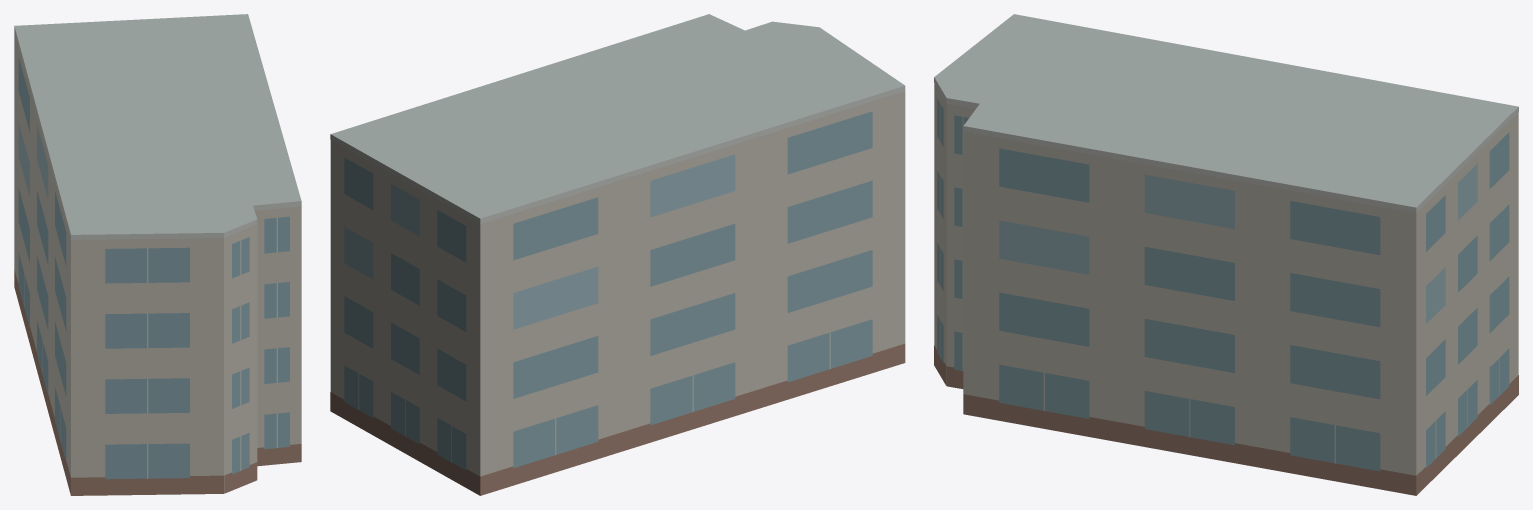
Rendered from survey-upis-33013987.glb.
The picture shows the model from 3 angles, left to right: view 1: azimuth 30°, elevation 25°; view 2: azimuth 150°, elevation 25°; view 3: azimuth 270°, elevation 25°; orthographic projection. The views are drawn at different scales.
Visible parts, largest first — view 1: survey-upis-33013987.tmp; view 2: survey-upis-33013987.tmp; view 3: survey-upis-33013987.tmp.
Part boxes in pixels (x1,y1,x2,y2): survey-upis-33013987.tmp: (14,14,301,495); survey-upis-33013987.tmp: (330,14,905,495); survey-upis-33013987.tmp: (934,14,1518,495).
Bounding box in the file's own units: 17.84 × 12.38 × 22.76.
